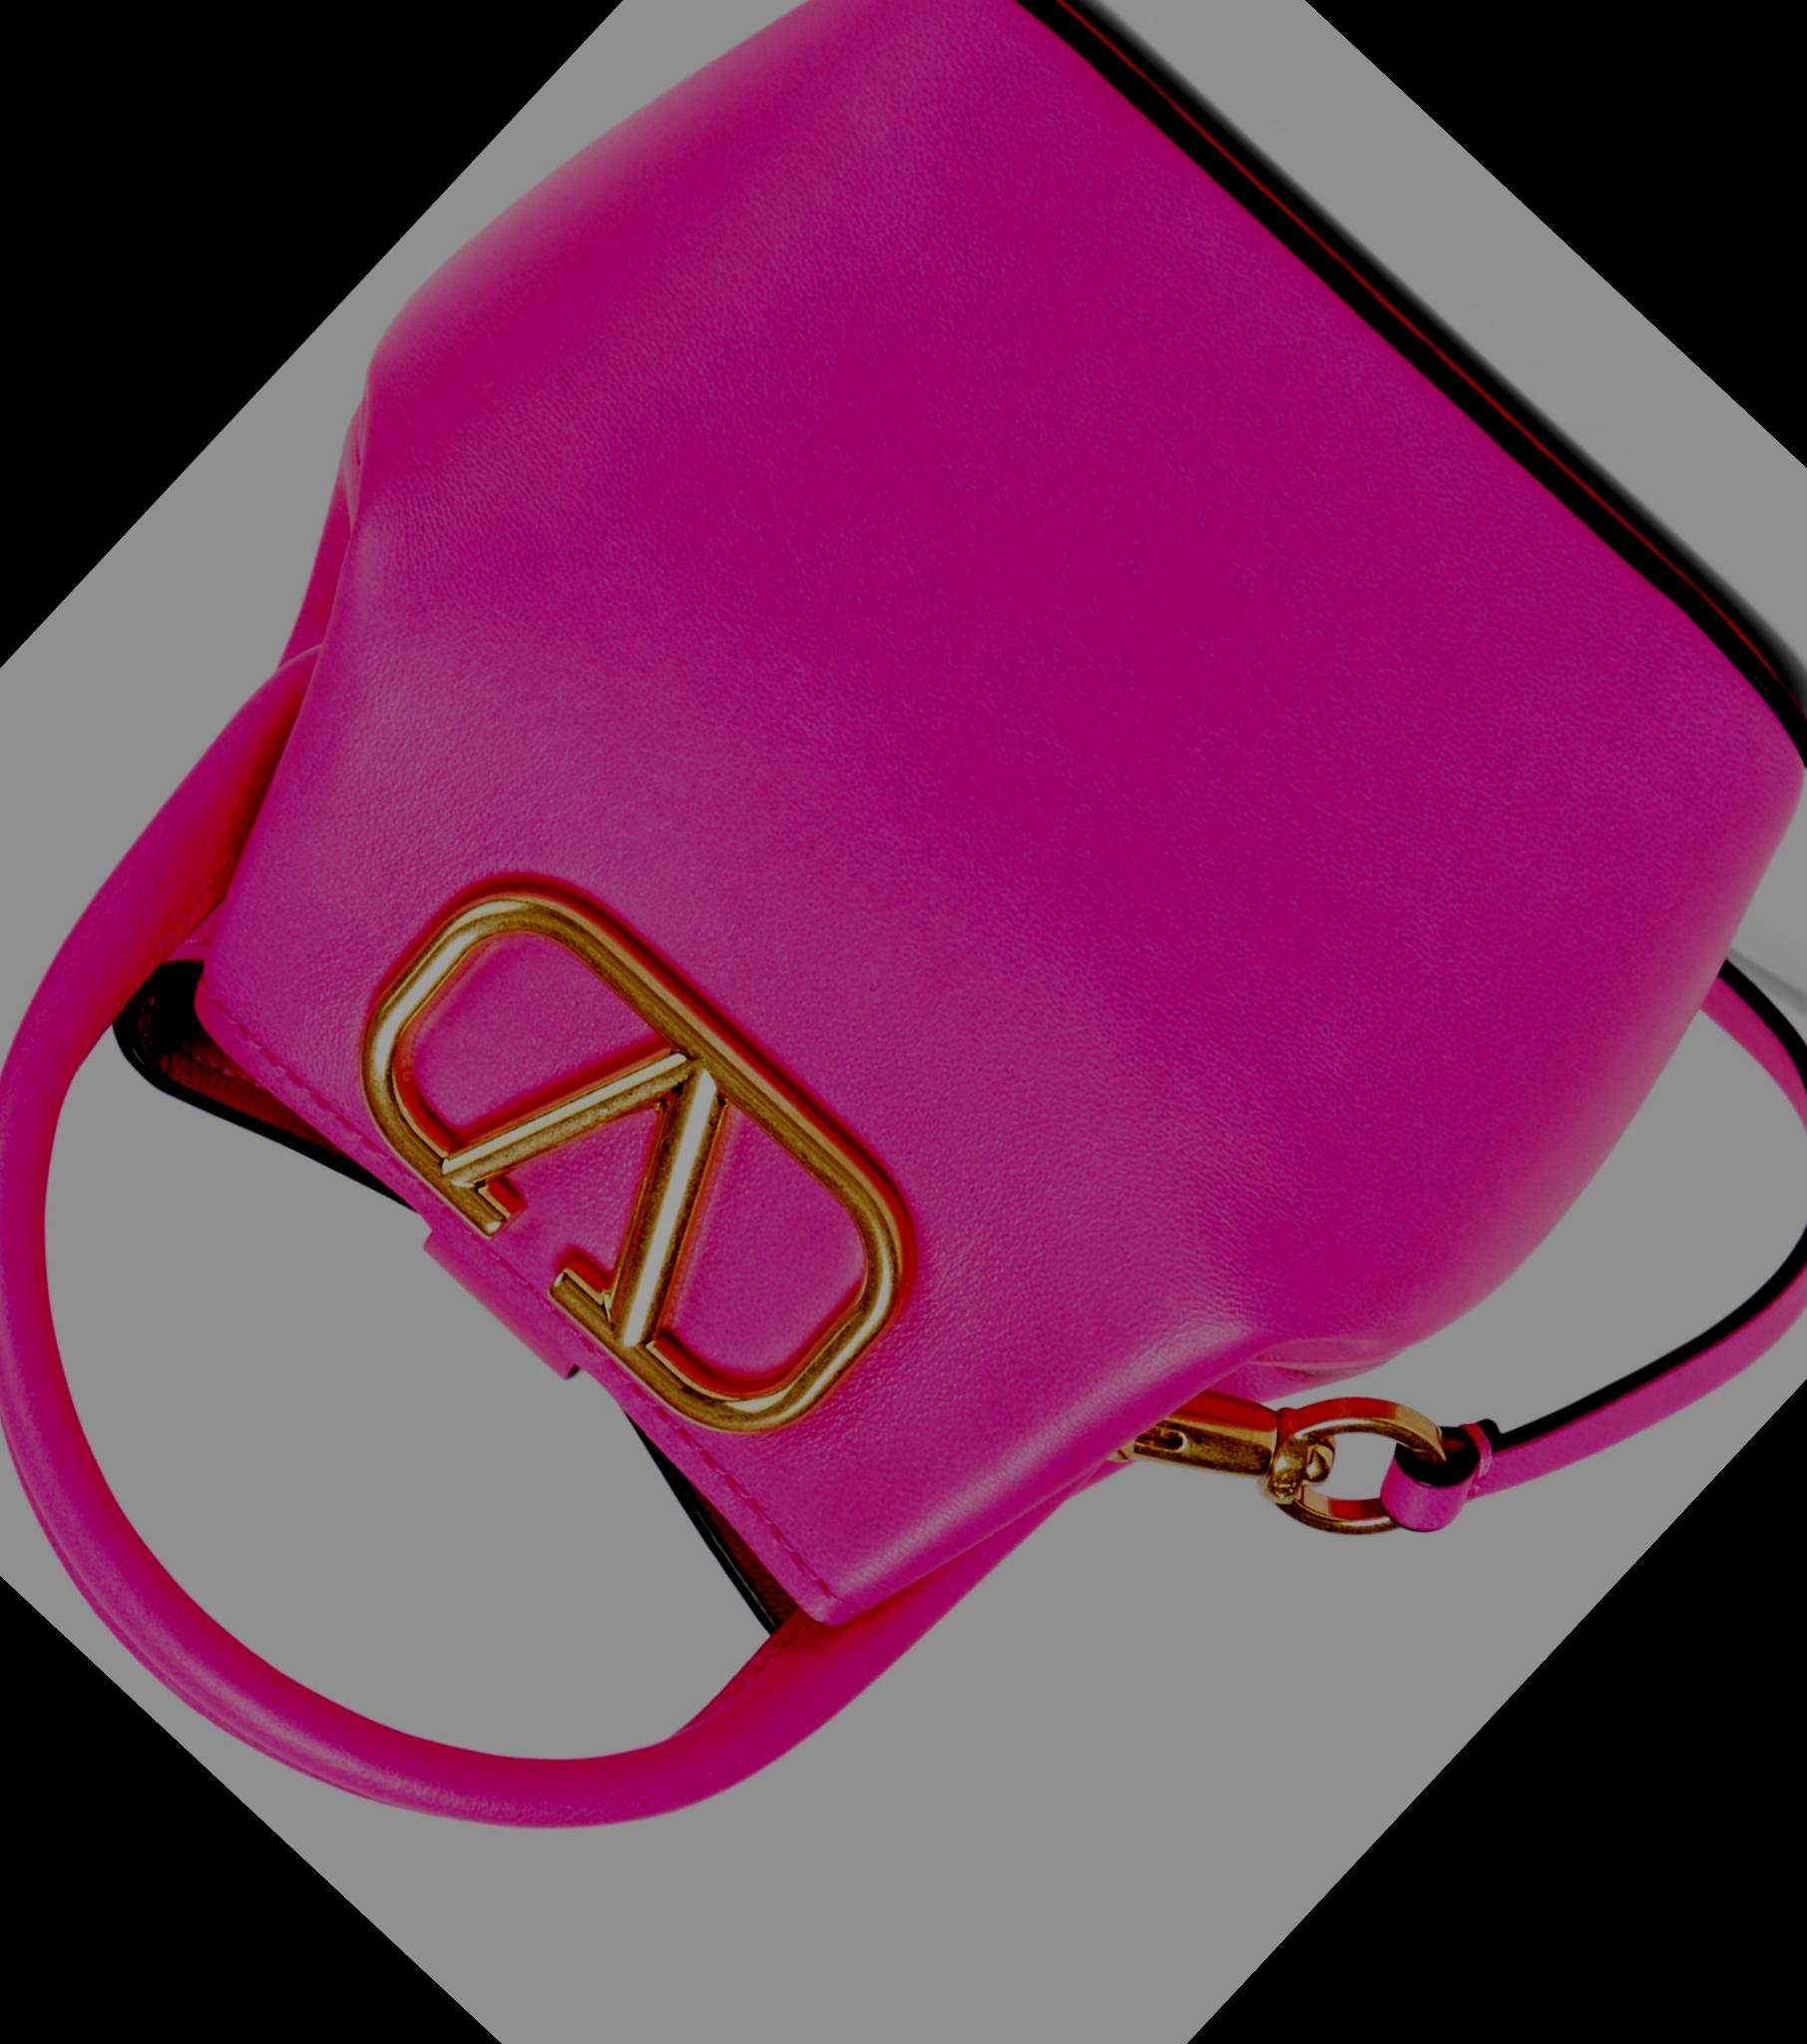VALENTINO: (302, 835, 959, 1479)
